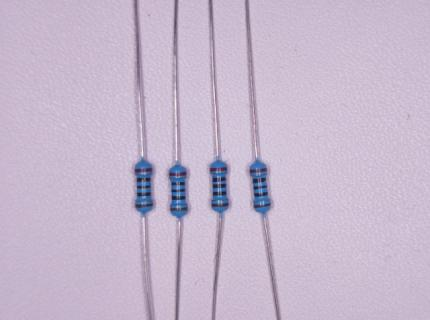Black band: (252, 177, 267, 184), (212, 183, 227, 189), (212, 177, 227, 182), (253, 185, 268, 190), (137, 177, 151, 182), (137, 192, 151, 197), (172, 181, 186, 186), (213, 191, 227, 196), (254, 192, 268, 197), (137, 185, 151, 189), (171, 189, 185, 193), (172, 196, 185, 200)
Brown band: (253, 203, 271, 209), (211, 203, 229, 207), (170, 208, 188, 212), (135, 204, 153, 208)
Red band: (250, 168, 268, 174), (135, 168, 153, 173), (210, 167, 229, 171), (169, 172, 187, 176)
